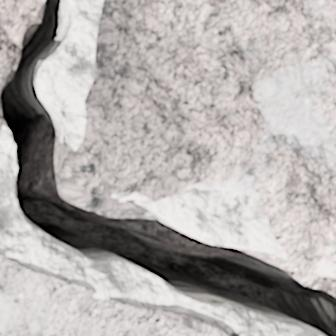brick: (61, 0, 335, 278), (0, 255, 229, 335), (0, 0, 44, 88), (127, 200, 137, 205), (0, 109, 1, 126)
crack: (0, 0, 335, 335)
